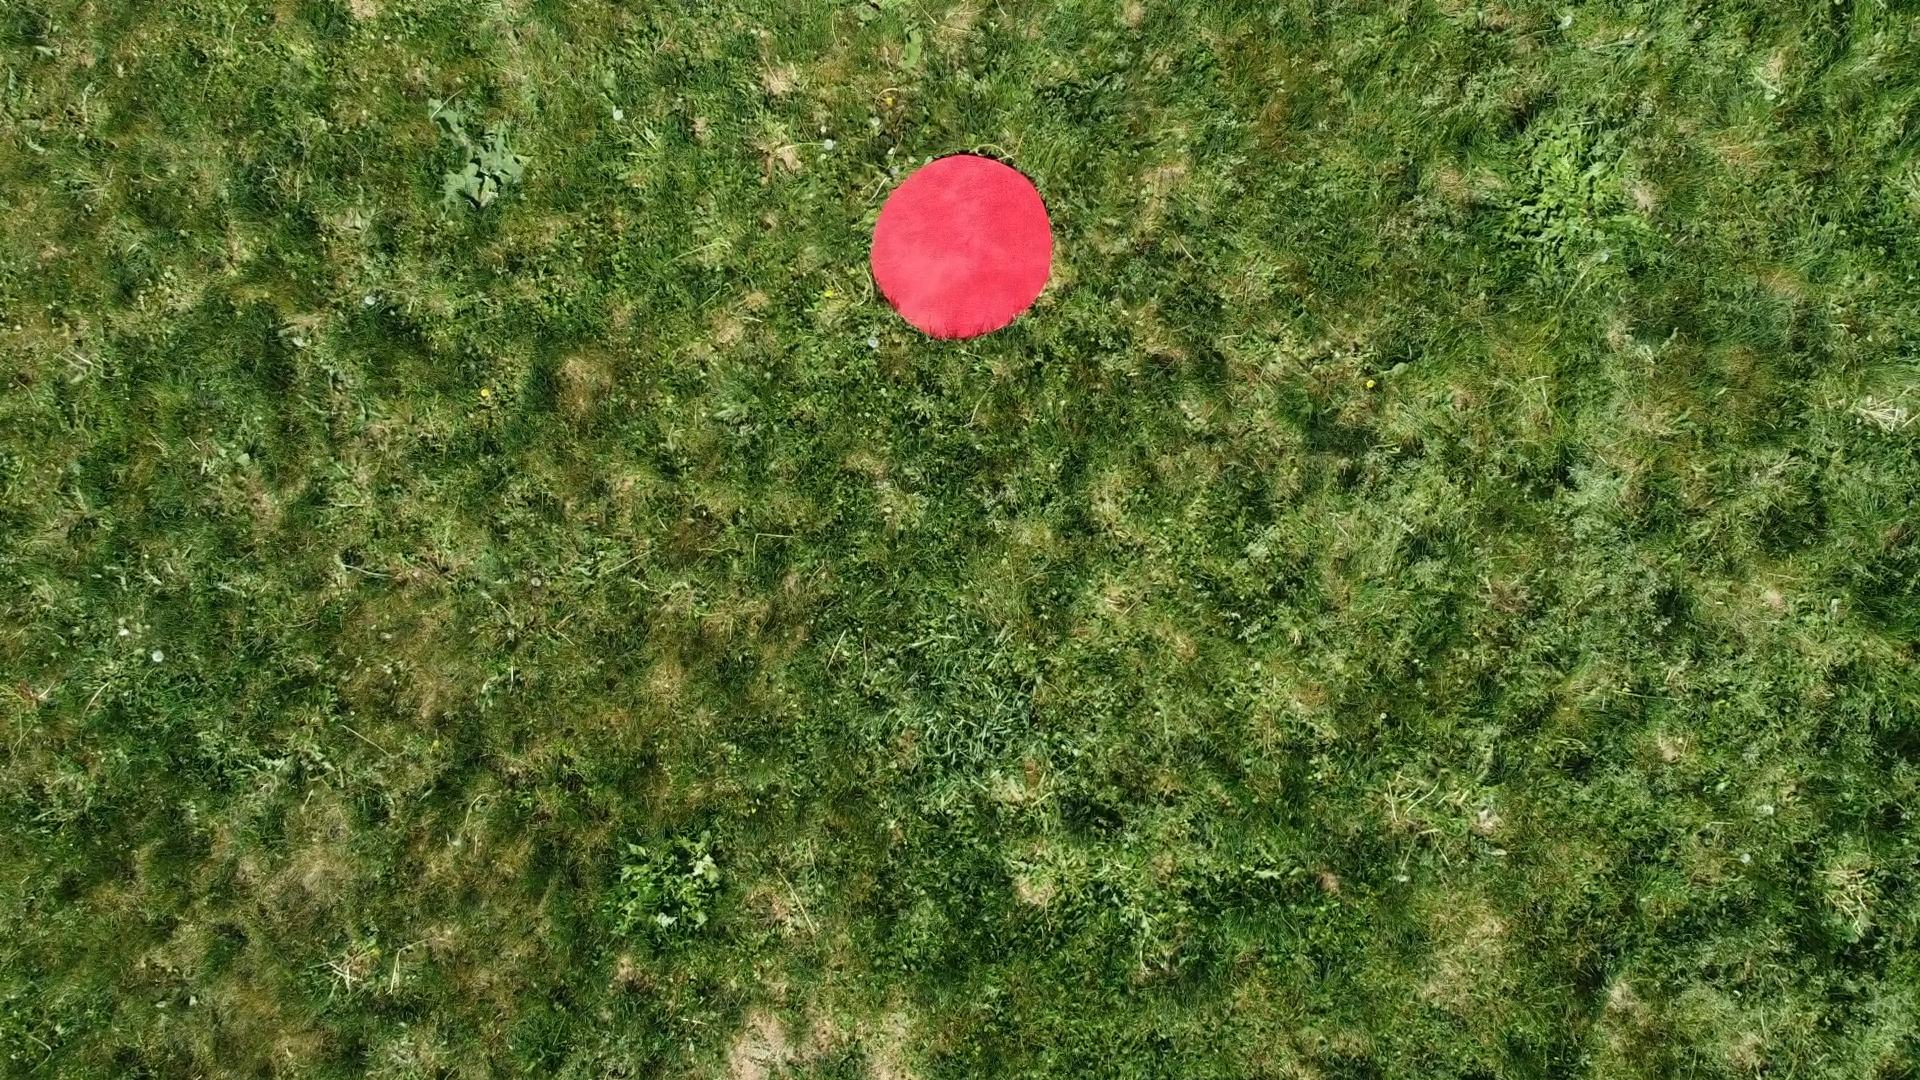Red: (860, 146, 1065, 345)
